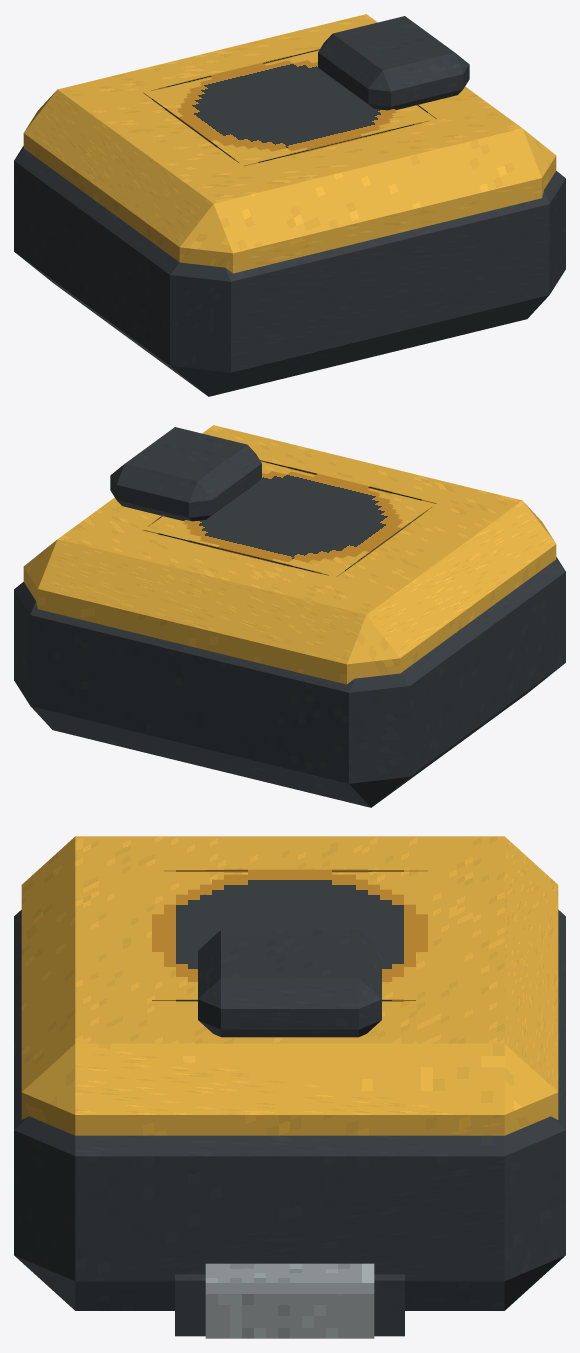
The model's file is tape_measure.glb.
3 renders of one model, top to bottom at view 1: azimuth 30°, elevation 25°; view 2: azimuth 150°, elevation 25°; view 3: azimuth 270°, elevation 25°, orthographic. The views are drawn at different scales.
Parts seen in each view (by area): view 1: block_yellow case halves, block_rubber case, block_round maker badge, block_thumb lock; view 2: block_yellow case halves, block_rubber case, block_round maker badge, block_thumb lock; view 3: block_yellow case halves, block_rubber case, block_thumb lock, block_round maker badge, block_metal end hook, block_tape mouth.
Boxes of the visible parts, x1,y1,x2,y2 form: block_yellow case halves: (23, 14, 556, 273); block_rubber case: (14, 146, 565, 396); block_round maker badge: (143, 49, 436, 166); block_thumb lock: (318, 16, 469, 110); block_yellow case halves: (23, 425, 556, 684); block_rubber case: (14, 557, 565, 807); block_round maker badge: (143, 460, 436, 577); block_thumb lock: (110, 427, 261, 521); block_yellow case halves: (21, 836, 558, 1135); block_rubber case: (14, 910, 565, 1310); block_thumb lock: (198, 929, 381, 1037); block_round maker badge: (152, 869, 427, 1001); block_metal end hook: (205, 1263, 374, 1338); block_tape mouth: (175, 1274, 404, 1336).
Size of the model in its own units: 0.089 by 0.046 by 0.072.
Materials: 2 (2 with a texture image).
